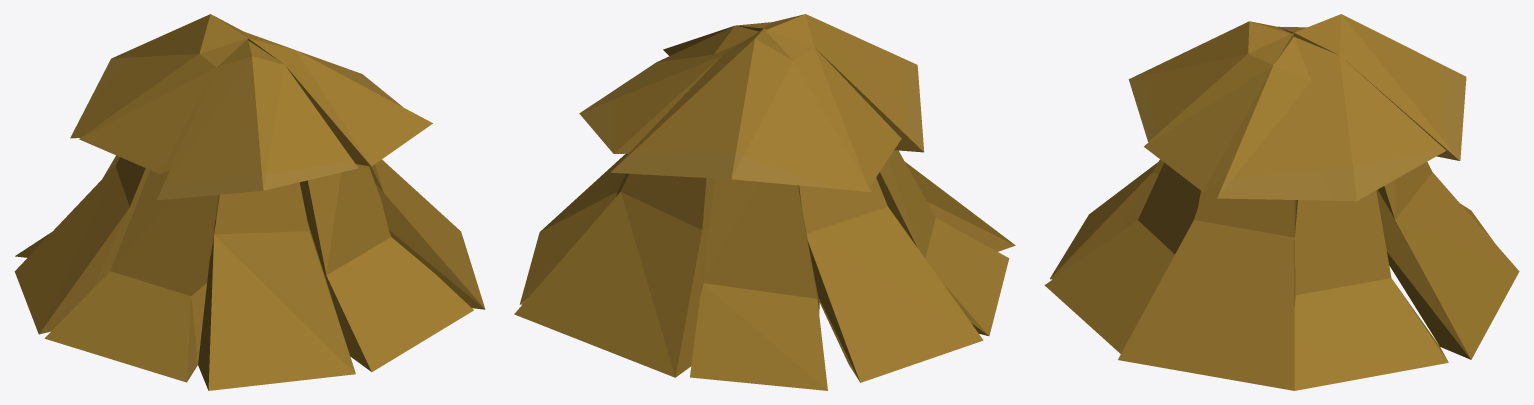
File: haystack_03.glb
3 views of the same model, side by side, from view 1: azimuth 30°, elevation 25°; view 2: azimuth 150°, elevation 25°; view 3: azimuth 270°, elevation 25° (orthographic). The views are drawn at different scales.
Visible parts, largest first — view 1: Haystack_03; view 2: Haystack_03; view 3: Haystack_03.
Part boxes in pixels (bbox=[...]): Haystack_03: bbox=[14, 14, 485, 390]; Haystack_03: bbox=[514, 14, 1015, 390]; Haystack_03: bbox=[1044, 14, 1519, 390].
Bounding box in the file's own units: 1.24 × 0.72 × 1.18.
Materials: 1 (1 with a texture image).
